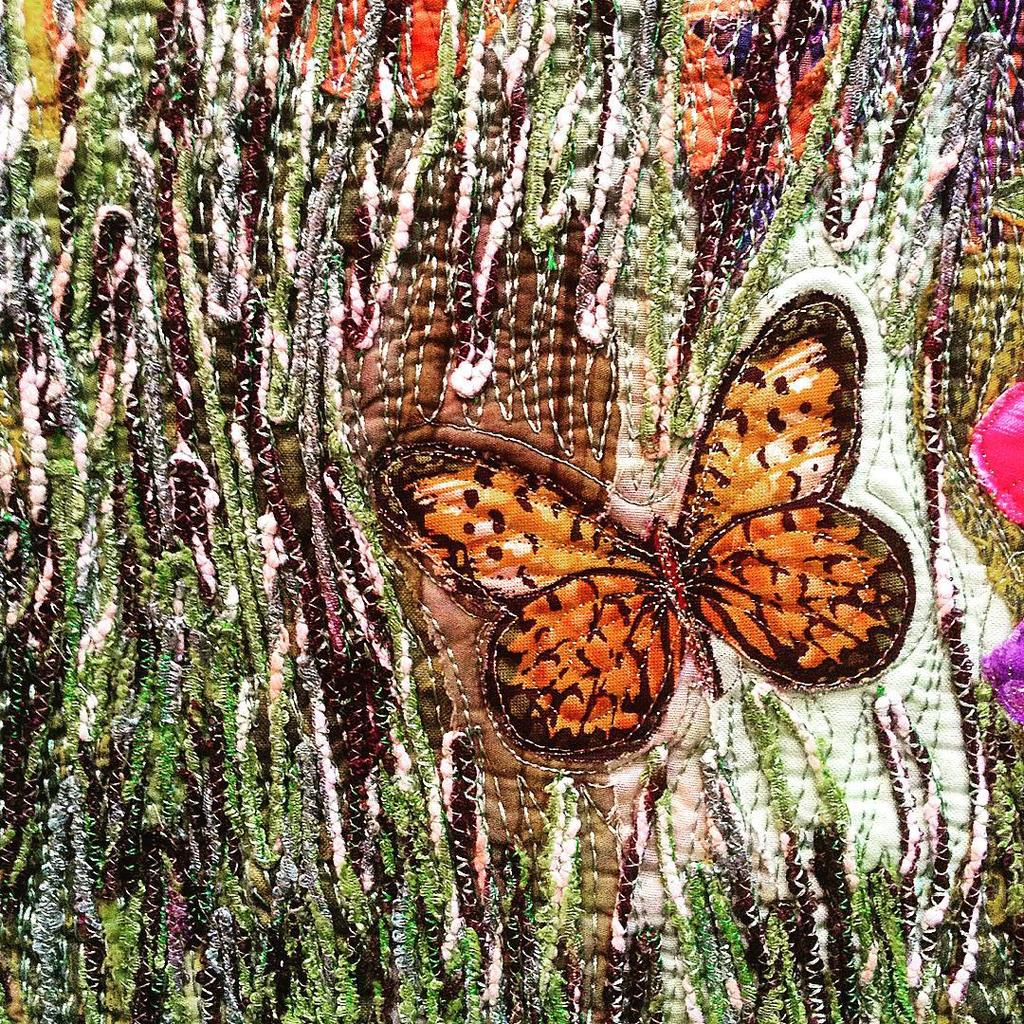Butterfly: (350, 270, 964, 792)
